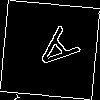A: (24, 24, 81, 80)
